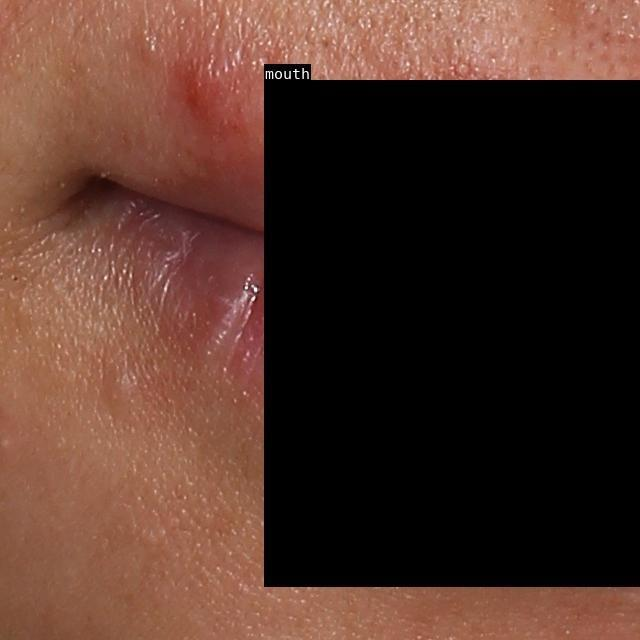comedo: (96, 363, 143, 408)
papule: (179, 58, 246, 128)
